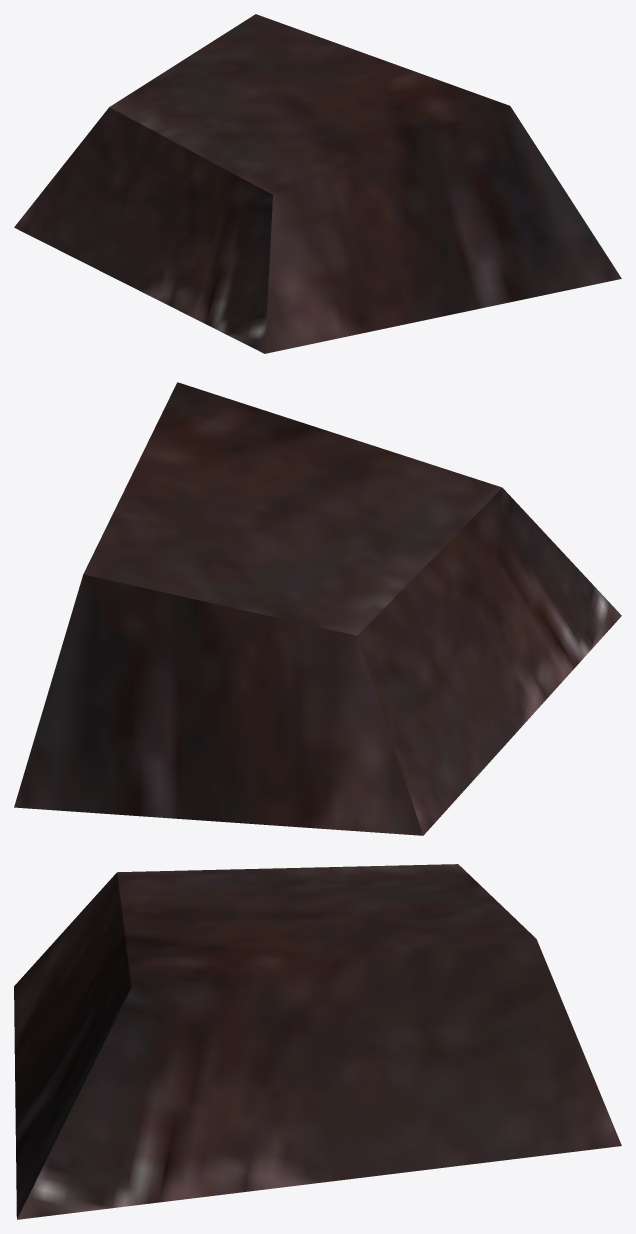
The model's file is hs_shitou_2.FBX.
3 renders of one model, top to bottom at view 1: azimuth 30°, elevation 25°; view 2: azimuth 150°, elevation 25°; view 3: azimuth 270°, elevation 25°, orthographic. The views are drawn at different scales.
Visible parts, largest first — view 1: hs_shitou_2; view 2: hs_shitou_2; view 3: hs_shitou_2.
Boxes of the visible parts, x1=… form: hs_shitou_2: x1=14, y1=14, x2=621, y2=353; hs_shitou_2: x1=14, y1=382, x2=621, y2=835; hs_shitou_2: x1=14, y1=864, x2=621, y2=1219.
Bounding box in the file's own units: 2.75 × 1.05 × 2.86.
